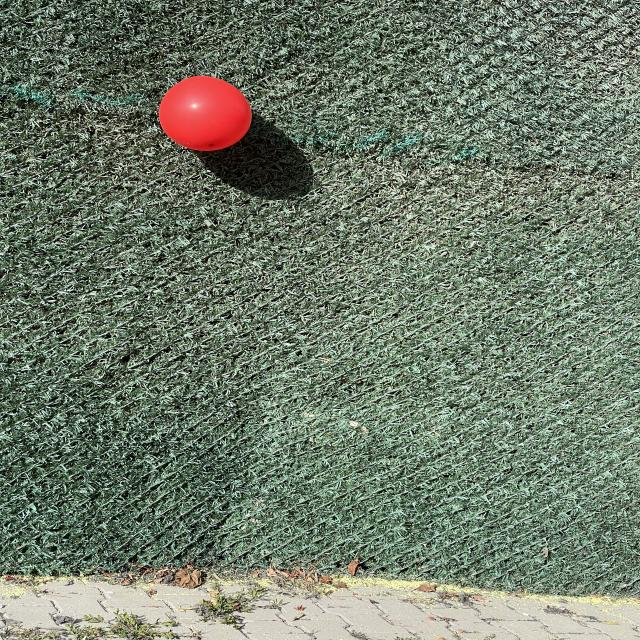balloon: (159, 76, 252, 151)
